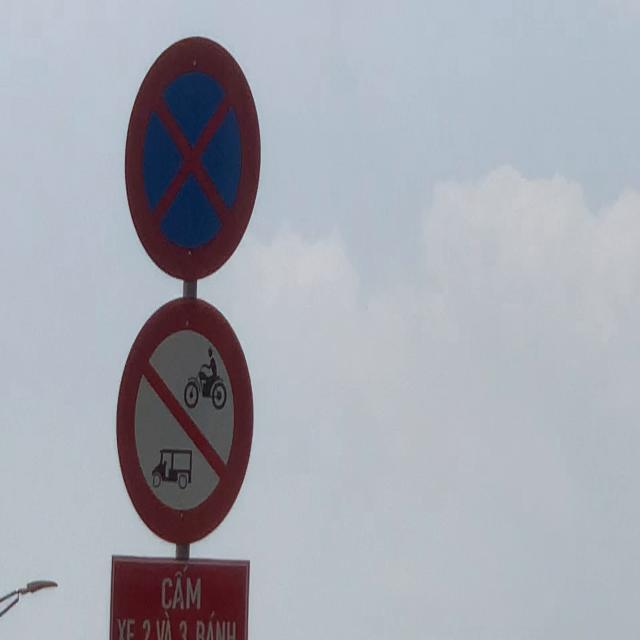Cam dung va do: (120, 28, 264, 290)
